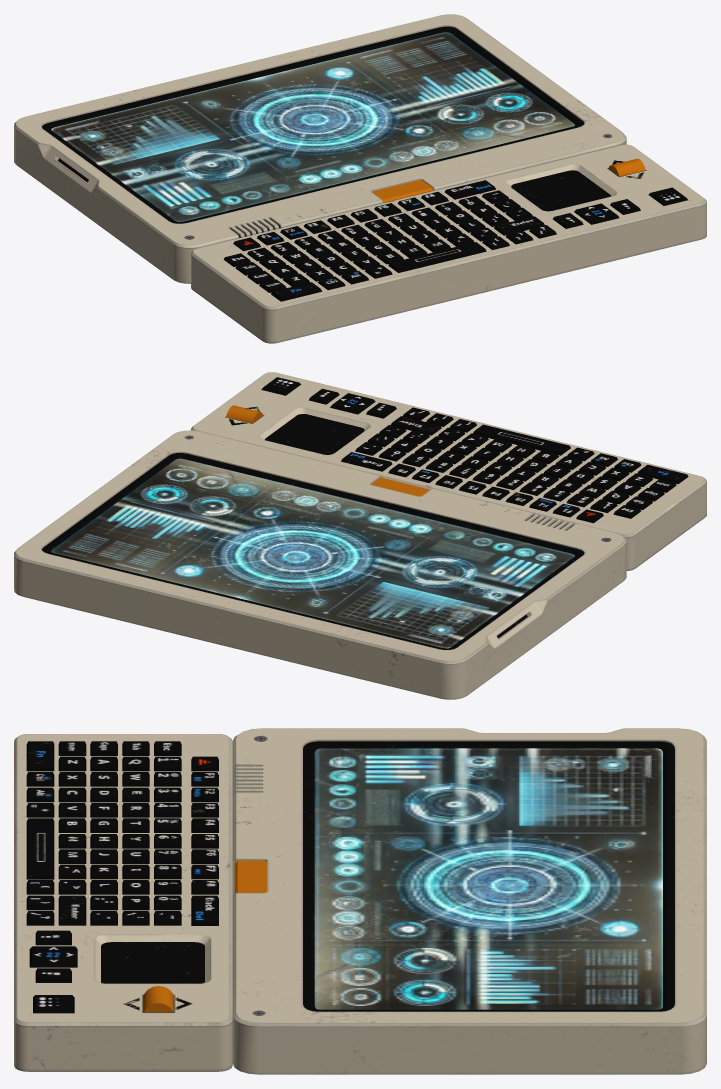
File: Project3.glb
3 renders of one model, top to bottom at view 1: azimuth 30°, elevation 25°; view 2: azimuth 150°, elevation 25°; view 3: azimuth 270°, elevation 25°, orthographic. The views are drawn at different scales.
Parts seen in each view (by area): view 1: Object_2; view 2: Object_2; view 3: Object_2.
Part boxes in pixels (x1,y1,x2,y2): Object_2: [14, 14, 706, 343]; Object_2: [14, 372, 706, 699]; Object_2: [14, 728, 706, 1074].
Bounding box in the file's own units: 0.2636 × 0.0239 × 0.2606.
1 material, 1 textured.
